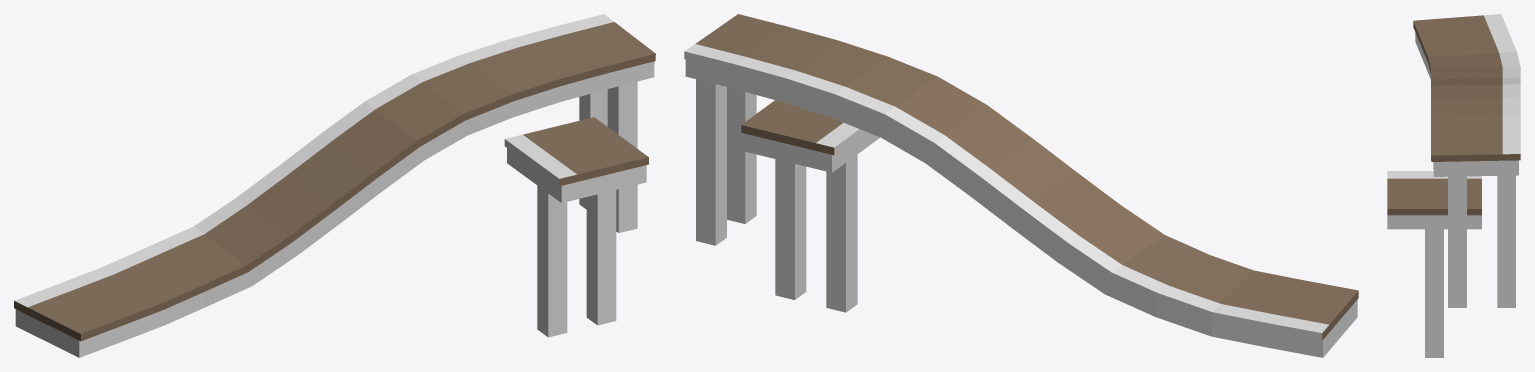
Rendered from HighwayStop.fbx.
The picture shows the model from 3 angles, left to right: view 1: azimuth 30°, elevation 25°; view 2: azimuth 150°, elevation 25°; view 3: azimuth 270°, elevation 25°; orthographic projection. The views are drawn at different scales.
Parts seen in each view (by area): view 1: Platform, Pillar.003, PlatformSide, Pillar.001; view 2: Platform, Pillar.003, Pillar.001, PlatformSide; view 3: Platform, Pillar.001, PlatformSide, Pillar.003.
Boxes of the visible parts, x1,y1,x2,y2 form: Platform: (14, 14, 655, 357); Pillar.003: (537, 185, 616, 337); PlatformSide: (504, 117, 648, 202); Pillar.001: (579, 81, 637, 232); Platform: (684, 14, 1358, 357); Pillar.003: (775, 154, 857, 312); Pillar.001: (696, 79, 756, 245); PlatformSide: (741, 100, 880, 172); Platform: (1413, 14, 1520, 176); Pillar.001: (1448, 175, 1515, 307); PlatformSide: (1387, 171, 1481, 229); Pillar.003: (1425, 229, 1443, 357).
Bounding box in the file's own units: 25.42 × 10.35 × 5.63.
